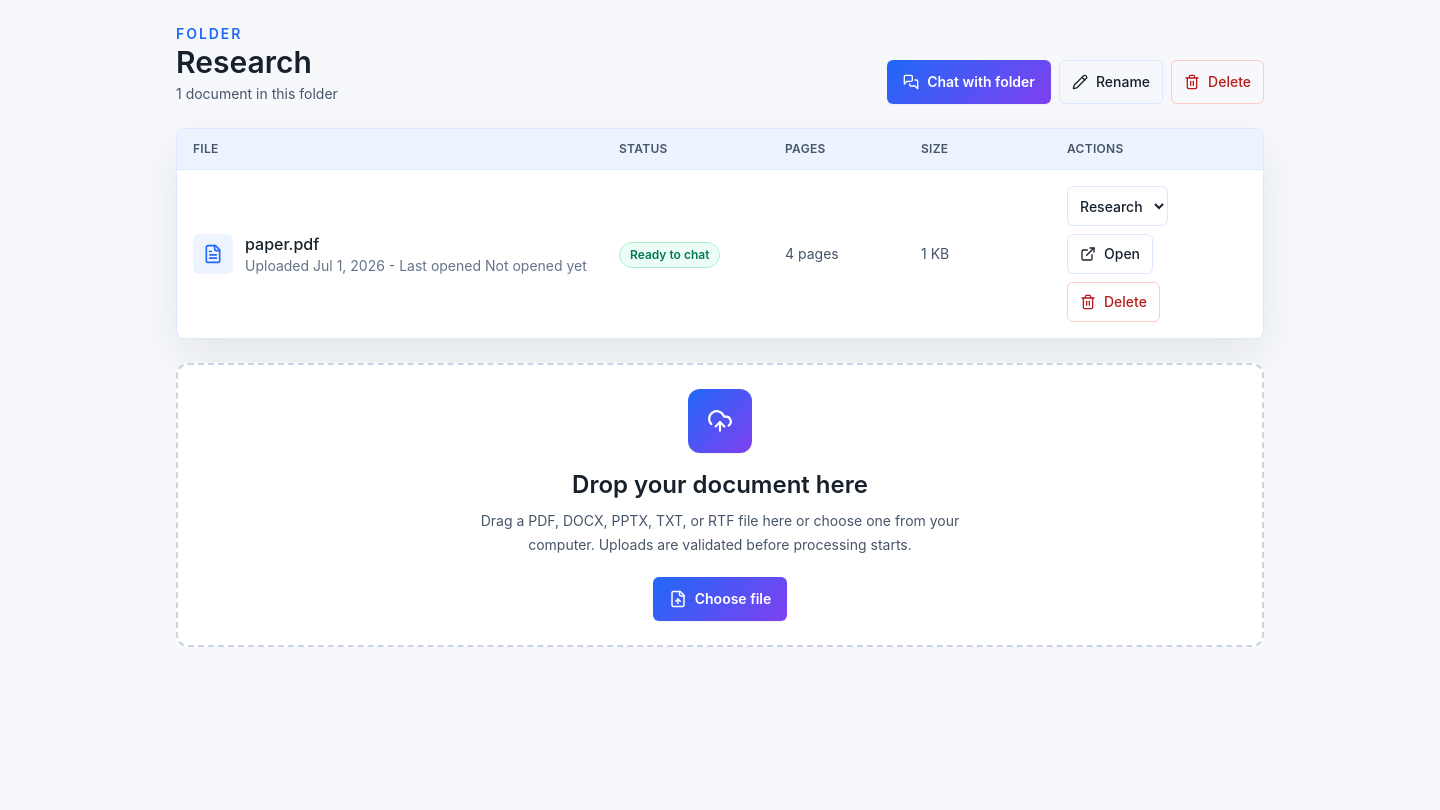
Test: FolderView › shows the delete confirmation wording
The image size is (1440, 810).
Expected: the heading "Research" is shown, [176,44,312,80]
Click the button with aria-label "Delete folder" at (1218, 82), box [1171,60,1264,104]
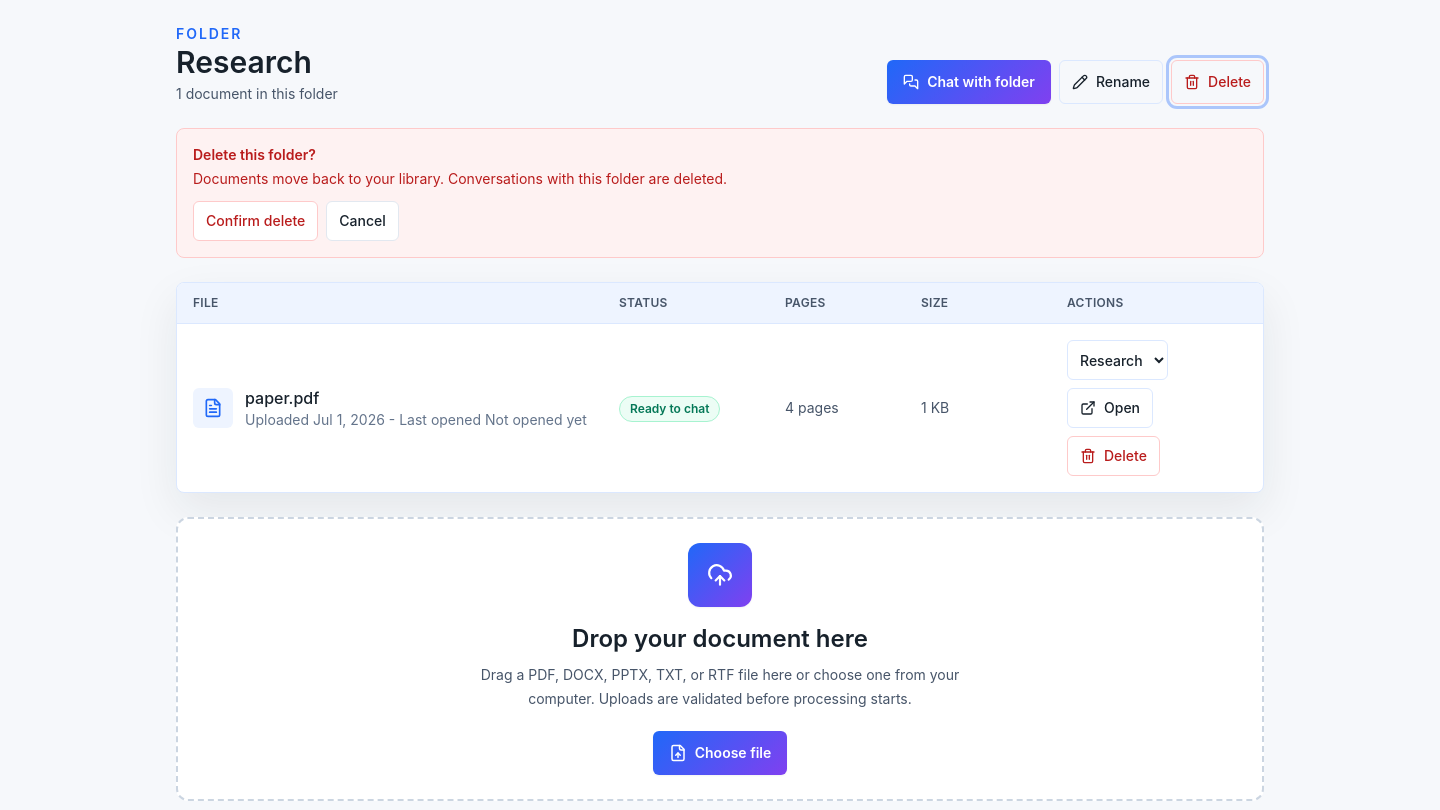
Now the text "Documents move back to your library. Conversations with this folder are deleted." is shown, box [193,170,727,187]
